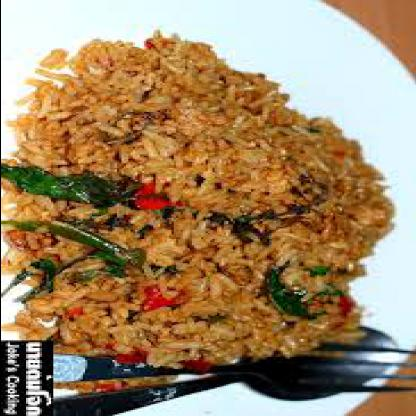Basil Rice: (2, 41, 388, 408)
